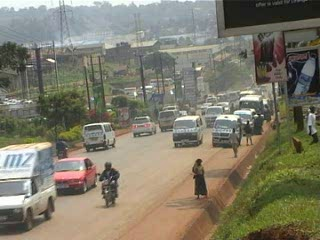Car: (54, 155, 99, 194), (131, 113, 157, 138), (199, 102, 210, 114), (178, 108, 189, 116)
Motorcycle: (96, 172, 121, 207), (57, 147, 67, 158)
